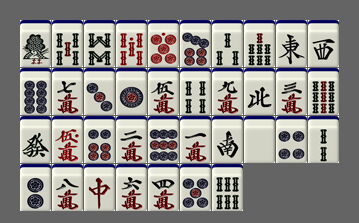0m: (52, 116, 83, 163)
0p: (148, 20, 179, 67)
0s: (116, 20, 147, 67)
1m: (180, 116, 211, 163)
1p: (116, 68, 147, 115)
1s: (20, 20, 51, 67)
1z: (276, 20, 307, 67)
2m: (116, 116, 147, 163)
2p: (20, 164, 51, 211)
2s: (308, 116, 339, 163)
2z: (212, 116, 243, 163)
3m: (276, 68, 307, 115)
3p: (84, 68, 115, 115)
3s: (212, 20, 243, 67)
3z: (308, 20, 339, 67)
4m: (148, 164, 179, 211)
4p: (276, 116, 307, 163)
4s: (180, 68, 211, 115)
4z: (244, 68, 275, 115)
5m: (148, 68, 179, 115)
5p: (180, 164, 211, 211)
5s: (52, 20, 83, 67)
5z: (244, 116, 275, 163)
6m: (116, 164, 147, 211)
6p: (84, 116, 115, 163)
6s: (212, 164, 243, 211)
6z: (20, 116, 51, 163)
7m: (52, 68, 83, 115)
7p: (180, 20, 211, 67)
7s: (244, 20, 275, 67)
7z: (84, 164, 115, 211)
8m: (52, 164, 83, 211)
8p: (20, 68, 51, 115)
8s: (84, 20, 115, 67)
9m: (212, 68, 243, 115)
9p: (148, 116, 179, 163)
9s: (308, 68, 339, 115)
